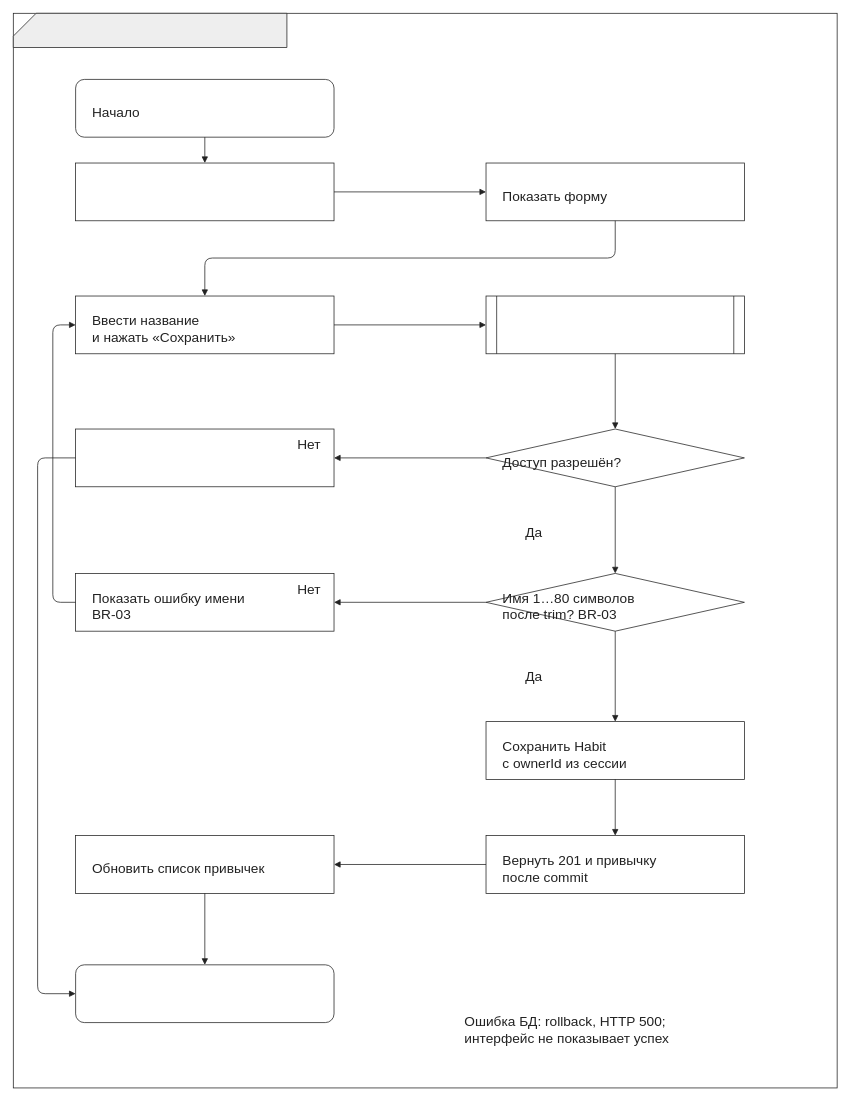
This 850x1101 diagram has some shape labels left out. Each missing label, with the centre of its shape:
act Создание привычки (UC-03): (x=150, y=30)
Конец: (x=204, y=993)
Нажать «Новая привычка»: (x=204, y=191)
Показать 401 / 403 Изменений нет: (x=204, y=457)
Проверить сессию и CSRF BR-01, BR-02: (x=614, y=324)
